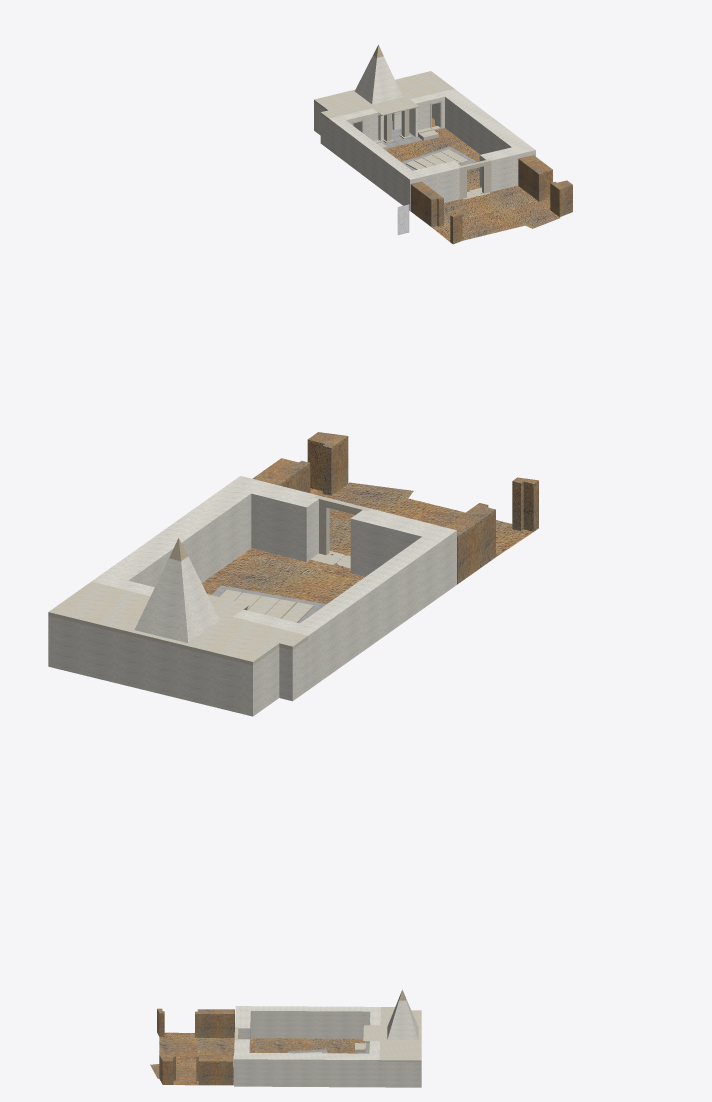
File: Paser.glb
The picture shows the model from 3 angles, top to bottom: view 1: azimuth 30°, elevation 25°; view 2: azimuth 150°, elevation 25°; view 3: azimuth 270°, elevation 25°; orthographic projection. The views are drawn at different scales.
Parts seen in each view (by area): view 1: Mesh5 Model, Mesh6 Model; view 2: Mesh5 Model; view 3: Mesh5 Model.
Part boxes in pixels (x1,y1,x2,y2): Mesh5 Model: (314, 44, 572, 244); Mesh6 Model: (397, 204, 409, 235); Mesh5 Model: (48, 432, 538, 716); Mesh5 Model: (150, 989, 421, 1087).
Size of the model in its own units: 19.94 by 4.66 by 40.18.
10 materials, 9 textured.
